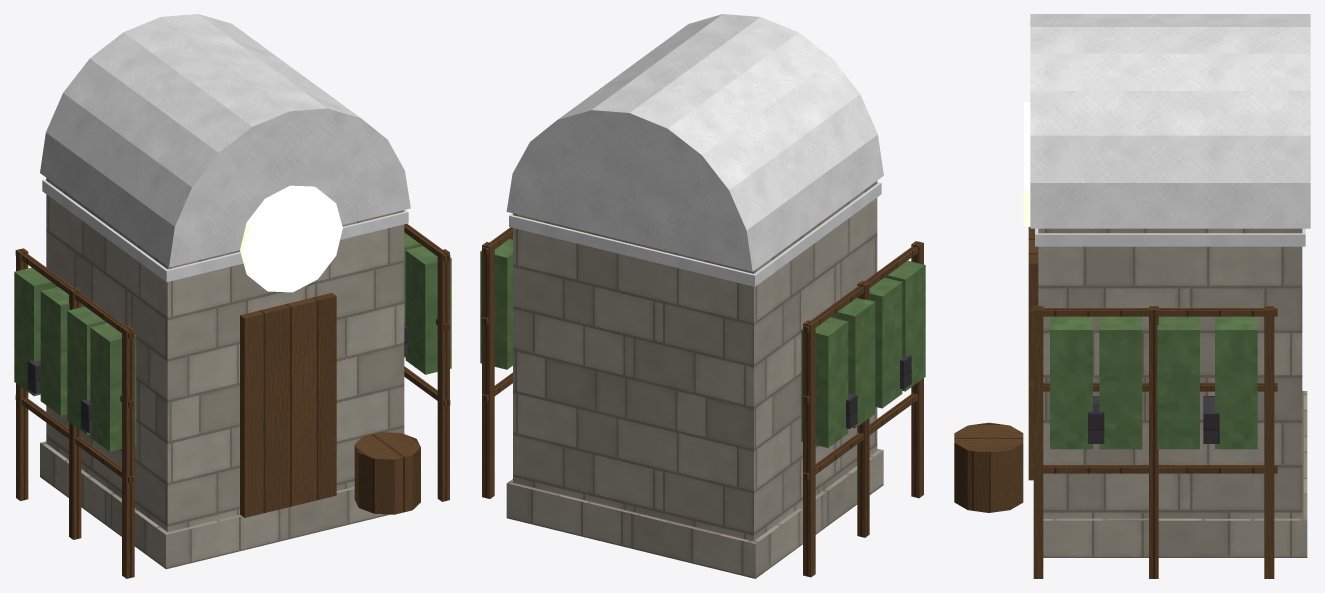
File: protocol.yearn.glb
The picture shows the model from 3 angles, left to right: view 1: azimuth 30°, elevation 25°; view 2: azimuth 150°, elevation 25°; view 3: azimuth 270°, elevation 25°; orthographic projection. The views are drawn at different scales.
Visible parts, largest first — view 1: building.protocol.yearn; view 2: building.protocol.yearn; view 3: building.protocol.yearn.
Boxes of the visible parts, bbox=[...] form: building.protocol.yearn: bbox=[14, 14, 451, 578]; building.protocol.yearn: bbox=[480, 14, 925, 578]; building.protocol.yearn: bbox=[954, 14, 1310, 578].
Size of the model in its own units: 2.66 by 3.12 by 2.16.
Materials: 7 (6 with a texture image).
